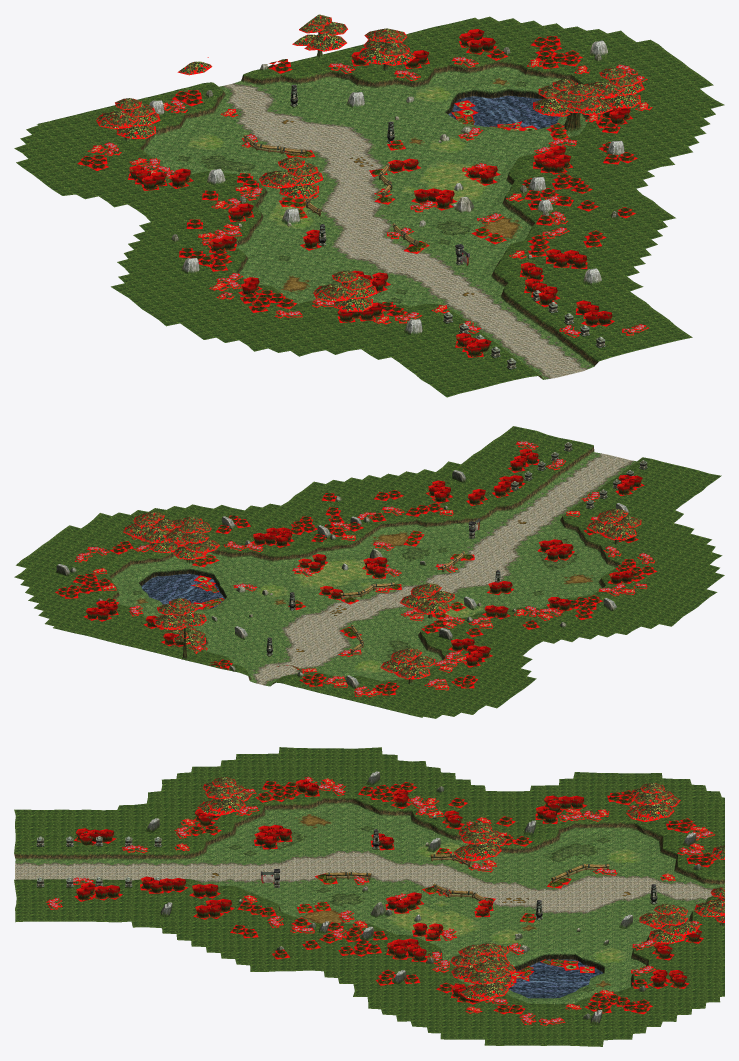
File: MilchMainRoad1.obj
3 views of the same model, one above another, from view 1: azimuth 30°, elevation 25°; view 2: azimuth 150°, elevation 25°; view 3: azimuth 270°, elevation 25° (orthographic). The views are drawn at different scales.
Parts seen in each view (by area): view 1: Object.005; view 2: Object.005; view 3: Object.005.
Part boxes in pixels (x1,y1,x2,y2): Object.005: (14, 14, 724, 397); Object.005: (14, 426, 724, 718); Object.005: (14, 747, 724, 1046).
Bounding box in the file's own units: 96.23 × 8.99 × 96.73.
Materials: 20 (20 with a texture image).
